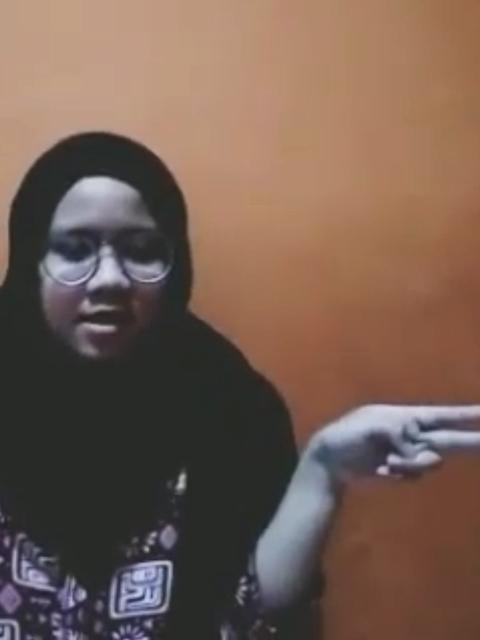H: (316, 402, 480, 486)
